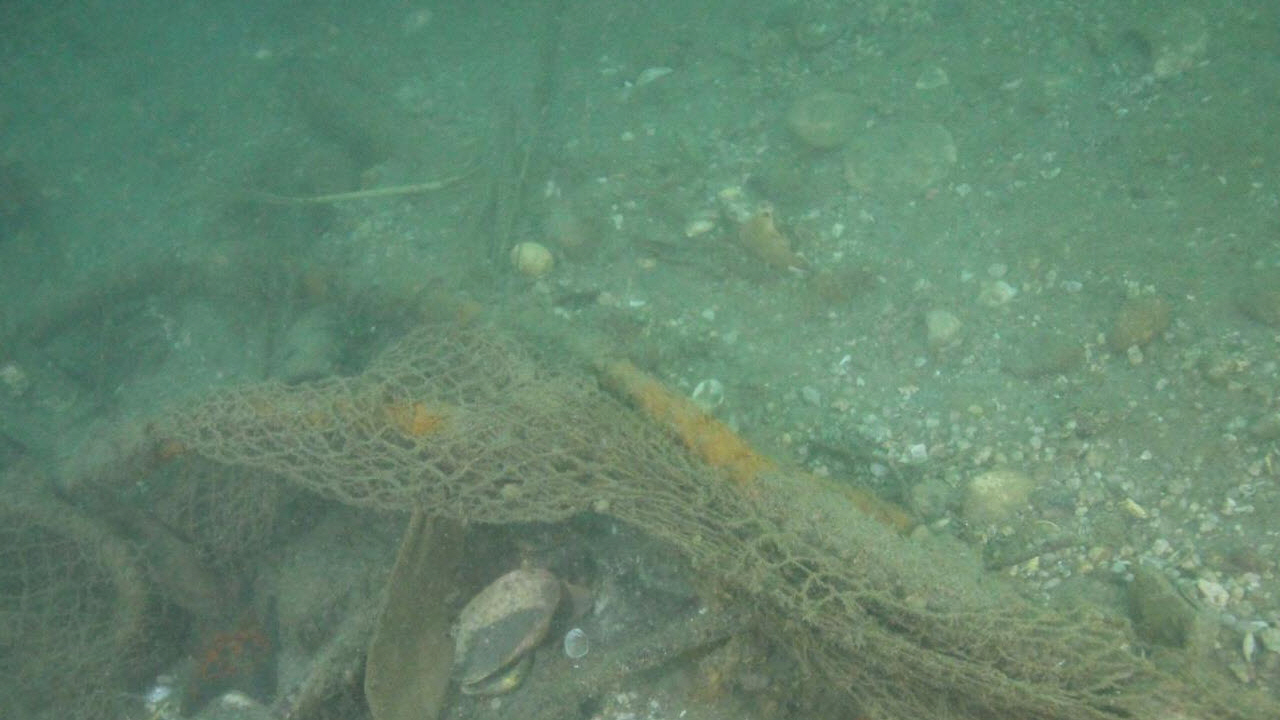fish net: (0, 320, 1280, 720)
